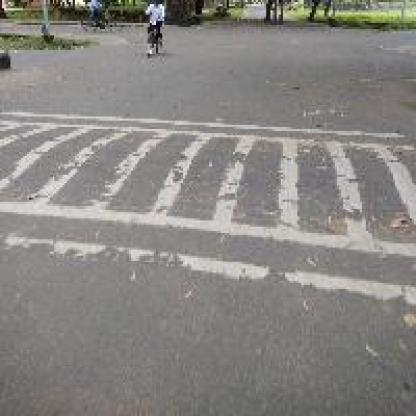Speed Bump: (0, 104, 414, 314)
